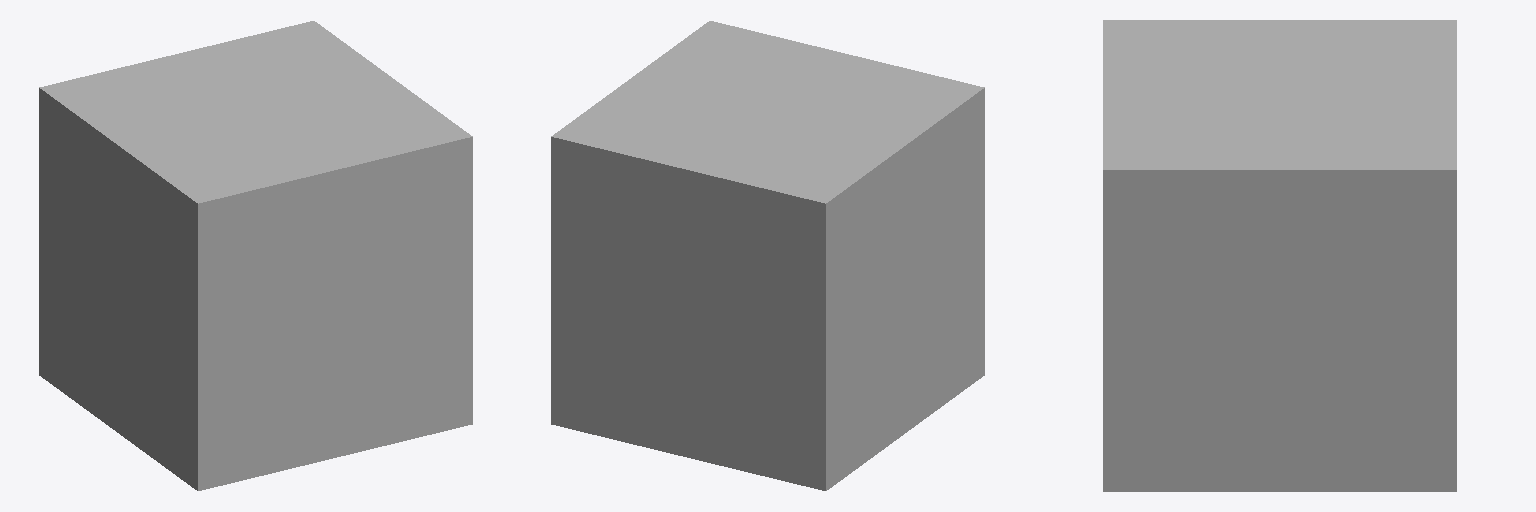
robot.urdf — root:
<robot name="root">
  <link name="link_ycb~cube_b9_convex_piece_0">
    <inertial>
      <origin xyz="0 0 0" rpy="0 0 0"/>
      <mass value="4.42E-01"/>
      <inertia ixx="1.70E-04" ixy="2.21E-13" ixz="-2.21E-13" iyy="1.70E-04" iyz="4.42E-13" izz="1.70E-04"/>
    </inertial>
    <visual>
      <origin xyz="0 0 0" rpy="0 0 0"/>
      <geometry>
        <mesh filename="ycb~cube_b9_convex_piece_0.obj" scale="1.0000E+00 1.0000E+00 1.0000E+00"/>
      </geometry>
      <material name="">
        <color rgba="7.50E-01 7.50E-01 7.50E-01 1"/>
      </material>
    </visual>
    <collision>
      <origin xyz="0 0 0" rpy="0 0 0"/>
      <geometry>
        <mesh filename="ycb~cube_b9_convex_piece_0.obj" scale="1.0000E+00 1.0000E+00 1.0000E+00"/>
      </geometry>
    </collision>
  </link>
</robot>

--- Render facts (derived) ---
The picture shows the robot from 3 angles, left to right: view 1: azimuth 30°, elevation 25°; view 2: azimuth 150°, elevation 25°; view 3: azimuth 270°, elevation 25°; orthographic projection.
Robot: root — 1 links, 0 joints (none); root link link_ycb~cube_b9_convex_piece_0; default pose: all joints at 0.
Visible links, largest first — view 1: link_ycb~cube_b9_convex_piece_0; view 2: link_ycb~cube_b9_convex_piece_0; view 3: link_ycb~cube_b9_convex_piece_0.
Boxes of the visible links, left/top/right/bottom form: link_ycb~cube_b9_convex_piece_0: left=39, top=21, right=472, bottom=490; link_ycb~cube_b9_convex_piece_0: left=551, top=21, right=984, bottom=490; link_ycb~cube_b9_convex_piece_0: left=1103, top=20, right=1456, bottom=491.
Bounding box of the posed robot: 0.048 × 0.048 × 0.048 m (x, y, z).
Meshes: 1 distinct files referenced, 1 mesh visuals loaded (1 OBJ).